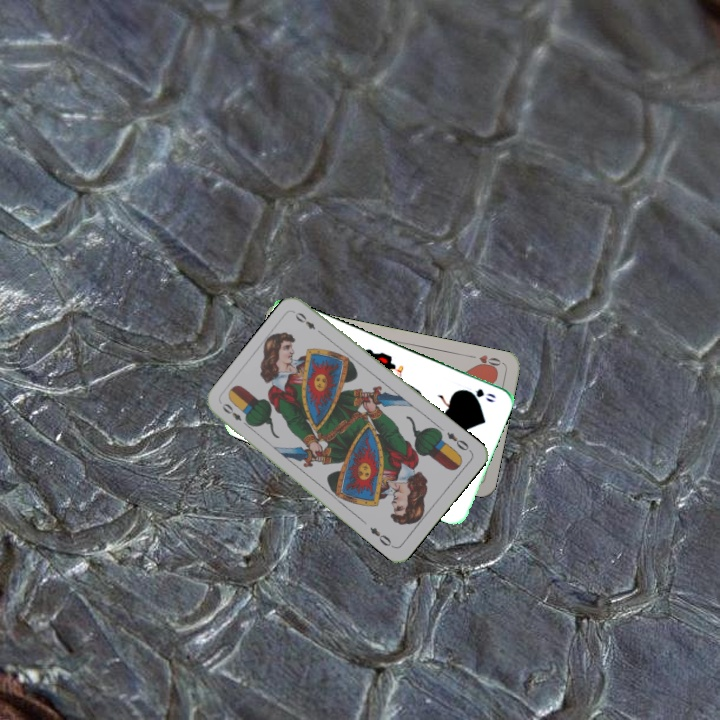EO: (218, 399, 252, 430), (443, 428, 474, 455)
GO: (458, 384, 498, 405)
HO: (465, 350, 505, 372)
